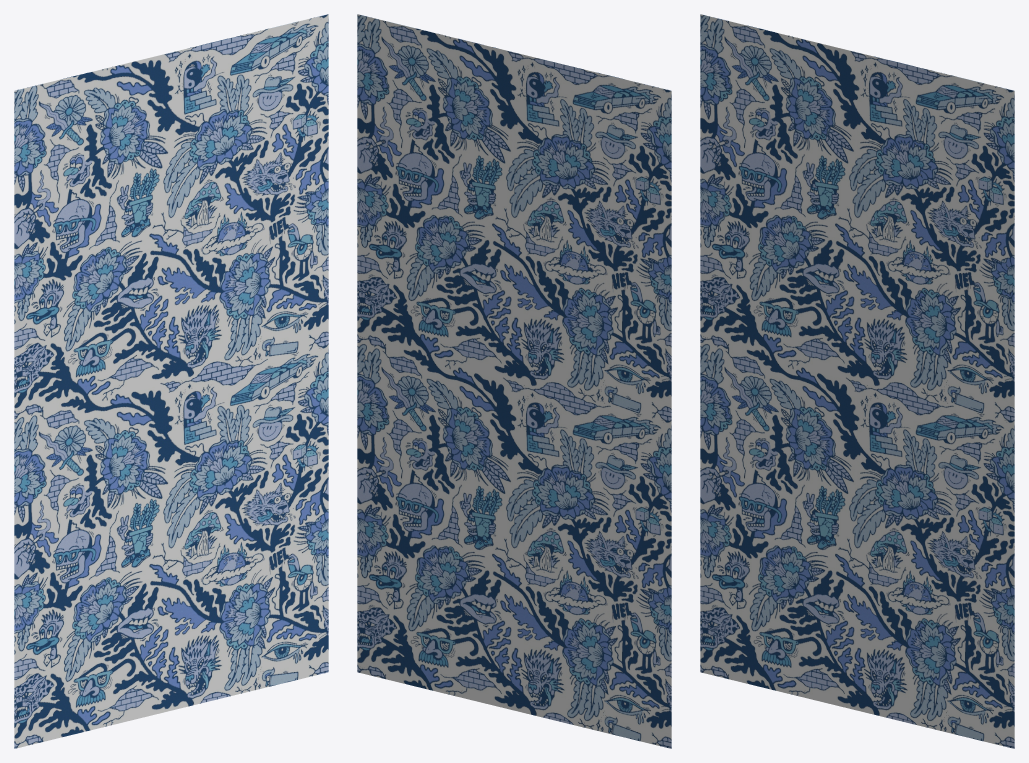
Rendered from Porcelain_fracture.glb.
3 views of the same model, side by side, from view 1: azimuth 30°, elevation 25°; view 2: azimuth 150°, elevation 25°; view 3: azimuth 330°, elevation 25° (orthographic).
Parts seen in each view (by area): view 1: fracture; view 2: fracture; view 3: fracture.
Boxes of the visible parts, x1,y1,x2,y2 form: fracture: (14,14,328,748); fracture: (357,14,671,748); fracture: (700,14,1014,748).
Bounding box in the file's own units: 0.0998 × 0.1996 × 0.000124.
1 material, 1 textured.
